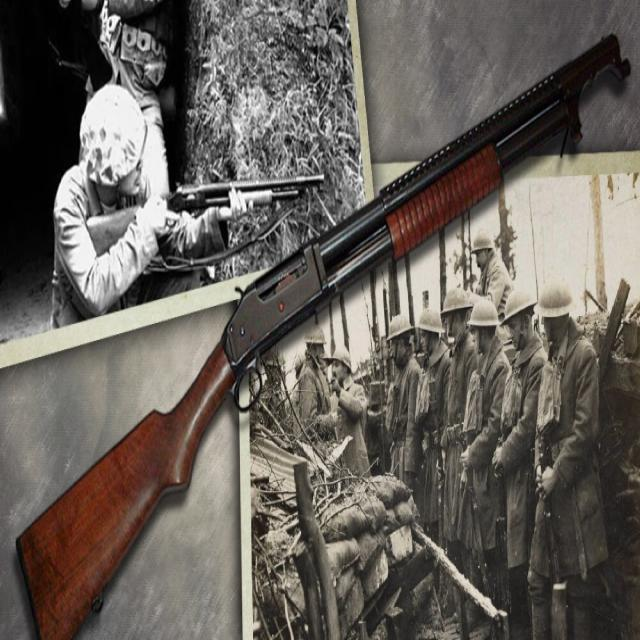ShotGun: (17, 36, 632, 640), (86, 176, 324, 257)
